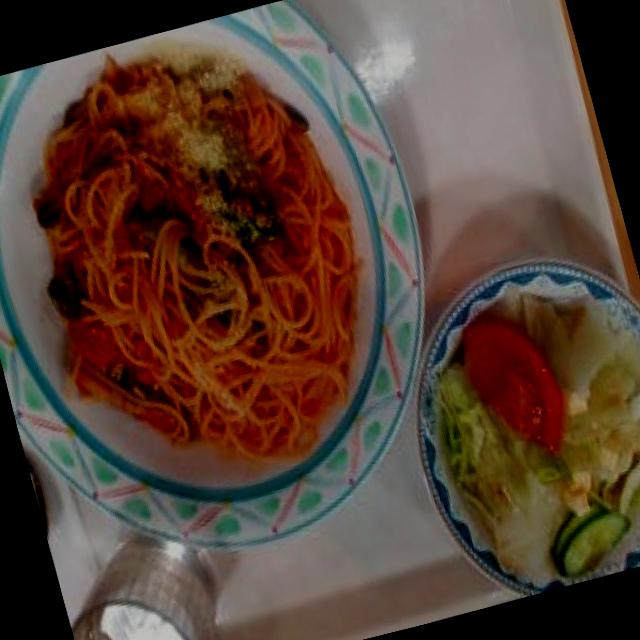Green Salad: (412, 269, 640, 604)
Pasta: (0, 18, 417, 526)
